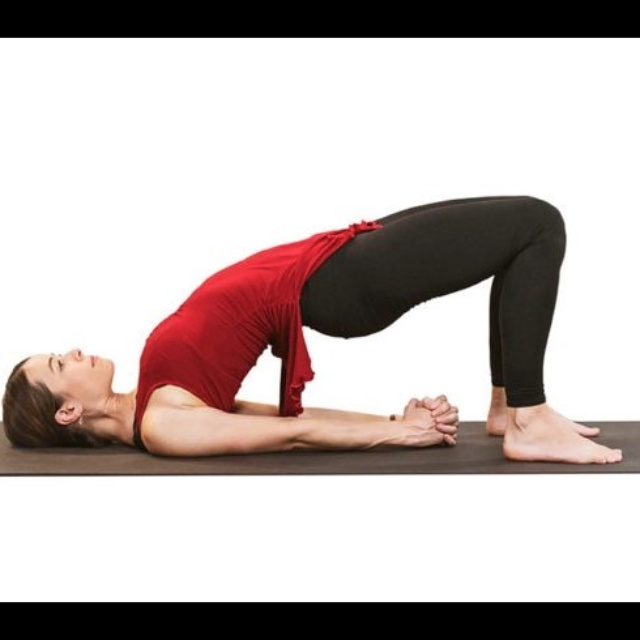Bridge_Pose: (1, 192, 630, 472)
